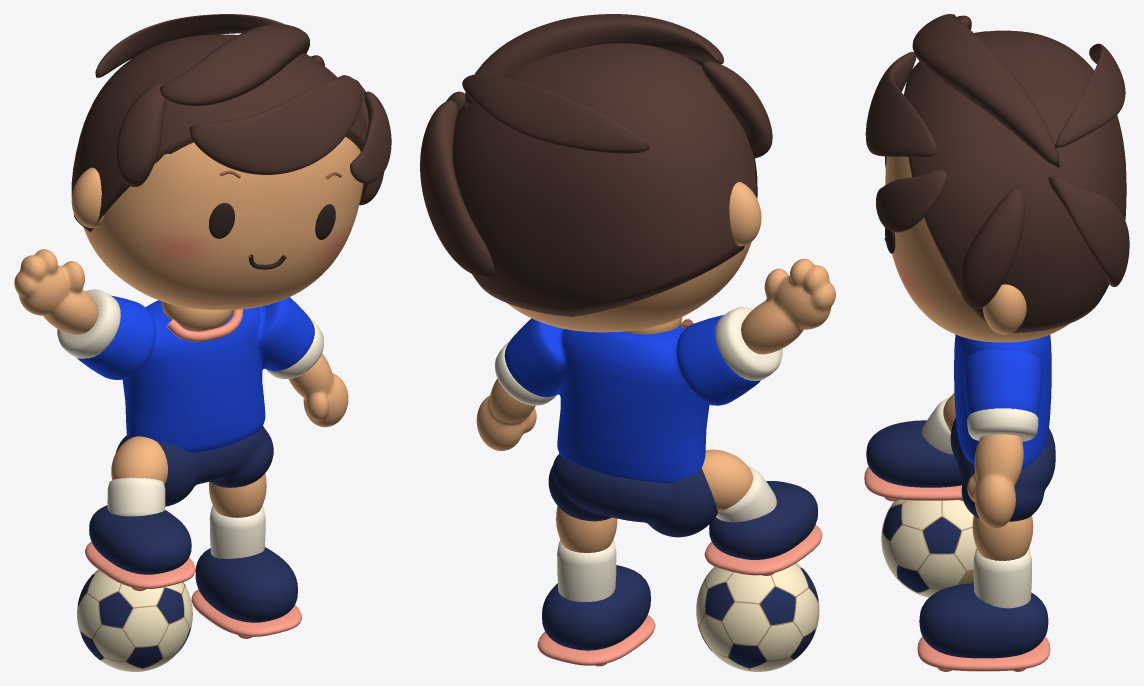
Rendered from hello-display.glb.
The picture shows the model from 3 angles, left to right: view 1: azimuth 30°, elevation 25°; view 2: azimuth 150°, elevation 25°; view 3: azimuth 270°, elevation 25°; orthographic projection. The views are drawn at different scales.
Visible parts, largest first — view 1: Head sculpt, Jersey with rounded shoulder transitions, Close-fitting rounded hair cap, Sculpted main swept fringe, Football cream hexagons and navy pentagons, Rounded crown sweep, Standing rounded boot, Raised rounded boot, Soft shorts with asymmetric hems, Waving arm and open mitten hand, Left temple soft lock, Rear crown flow (+15 smaller); view 2: Close-fitting rounded hair cap, Jersey with rounded shoulder transitions, Football cream hexagons and navy pentagons, Soft shorts with asymmetric hems, Rear crown flow, Rounded crown sweep, Rear right flow, Standing rounded boot, Waving arm and open mitten hand, Head sculpt, Raised rounded boot, Standing sock (+11 smaller); view 3: Close-fitting rounded hair cap, Jersey with rounded shoulder transitions, Rounded crown sweep, Football cream hexagons and navy pentagons, Standing rounded boot, Head sculpt, Right temple round lock, Raised rounded boot, Sculpted main swept fringe, Rear right flow, Lower arm and soft hand, Rear crown flow (+10 smaller).
Boxes of the visible parts, x1=… form: Head sculpt: x1=83, y1=137, x2=363, y2=310; Jersey with rounded shoulder transitions: x1=77, y1=295, x2=314, y2=452; Close-fitting rounded hair cap: x1=71, y1=34, x2=367, y2=231; Sculpted main swept fringe: x1=189, y1=77, x2=362, y2=174; Football cream hexagons and navy pentagons: x1=77, y1=569, x2=192, y2=671; Rounded crown sweep: x1=159, y1=24, x2=309, y2=105; Standing rounded boot: x1=195, y1=547, x2=297, y2=622; Raised rounded boot: x1=89, y1=505, x2=191, y2=574; Soft shorts with asymmetric hems: x1=115, y1=426, x2=273, y2=506; Waving arm and open mitten hand: x1=14, y1=249, x2=98, y2=334; Left temple soft lock: x1=116, y1=82, x2=166, y2=186; Rear crown flow: x1=95, y1=14, x2=283, y2=77; Close-fitting rounded hair cap: x1=453, y1=43, x2=757, y2=316; Jersey with rounded shoulder transitions: x1=504, y1=315, x2=760, y2=483; Football cream hexagons and navy pentagons: x1=696, y1=563, x2=819, y2=671; Soft shorts with asymmetric hems: x1=548, y1=453, x2=717, y2=537; Rear crown flow: x1=462, y1=74, x2=649, y2=153; Rounded crown sweep: x1=464, y1=14, x2=723, y2=106; Rear right flow: x1=420, y1=100, x2=494, y2=278; Standing rounded boot: x1=542, y1=565, x2=650, y2=650; Waving arm and open mitten hand: x1=741, y1=258, x2=835, y2=354; Head sculpt: x1=507, y1=242, x2=751, y2=332; Raised rounded boot: x1=709, y1=481, x2=817, y2=559; Standing sock: x1=557, y1=540, x2=616, y2=601; Close-fitting rounded hair cap: x1=904, y1=30, x2=1126, y2=332; Jersey with rounded shoulder transitions: x1=954, y1=334, x2=1051, y2=469; Rounded crown sweep: x1=912, y1=14, x2=1059, y2=167; Football cream hexagons and navy pentagons: x1=881, y1=499, x2=976, y2=597; Standing rounded boot: x1=919, y1=583, x2=1048, y2=658; Head sculpt: x1=885, y1=94, x2=1068, y2=342; Right temple round lock: x1=959, y1=187, x2=1024, y2=309; Raised rounded boot: x1=866, y1=420, x2=962, y2=487; Sculpted main swept fringe: x1=865, y1=52, x2=936, y2=157; Rear right flow: x1=1048, y1=175, x2=1129, y2=286; Lower arm and soft hand: x1=967, y1=434, x2=1023, y2=528; Rear crown flow: x1=1055, y1=43, x2=1125, y2=148.
Size of the model in its own units: 0.1159 by 0.1797 by 0.0699.
